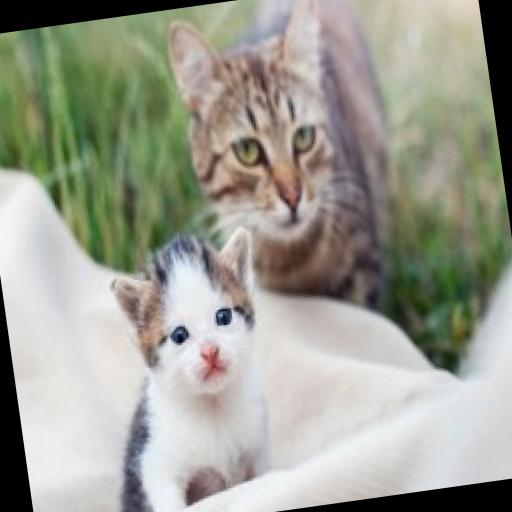cat: (155, 0, 431, 315), (77, 217, 302, 512)
